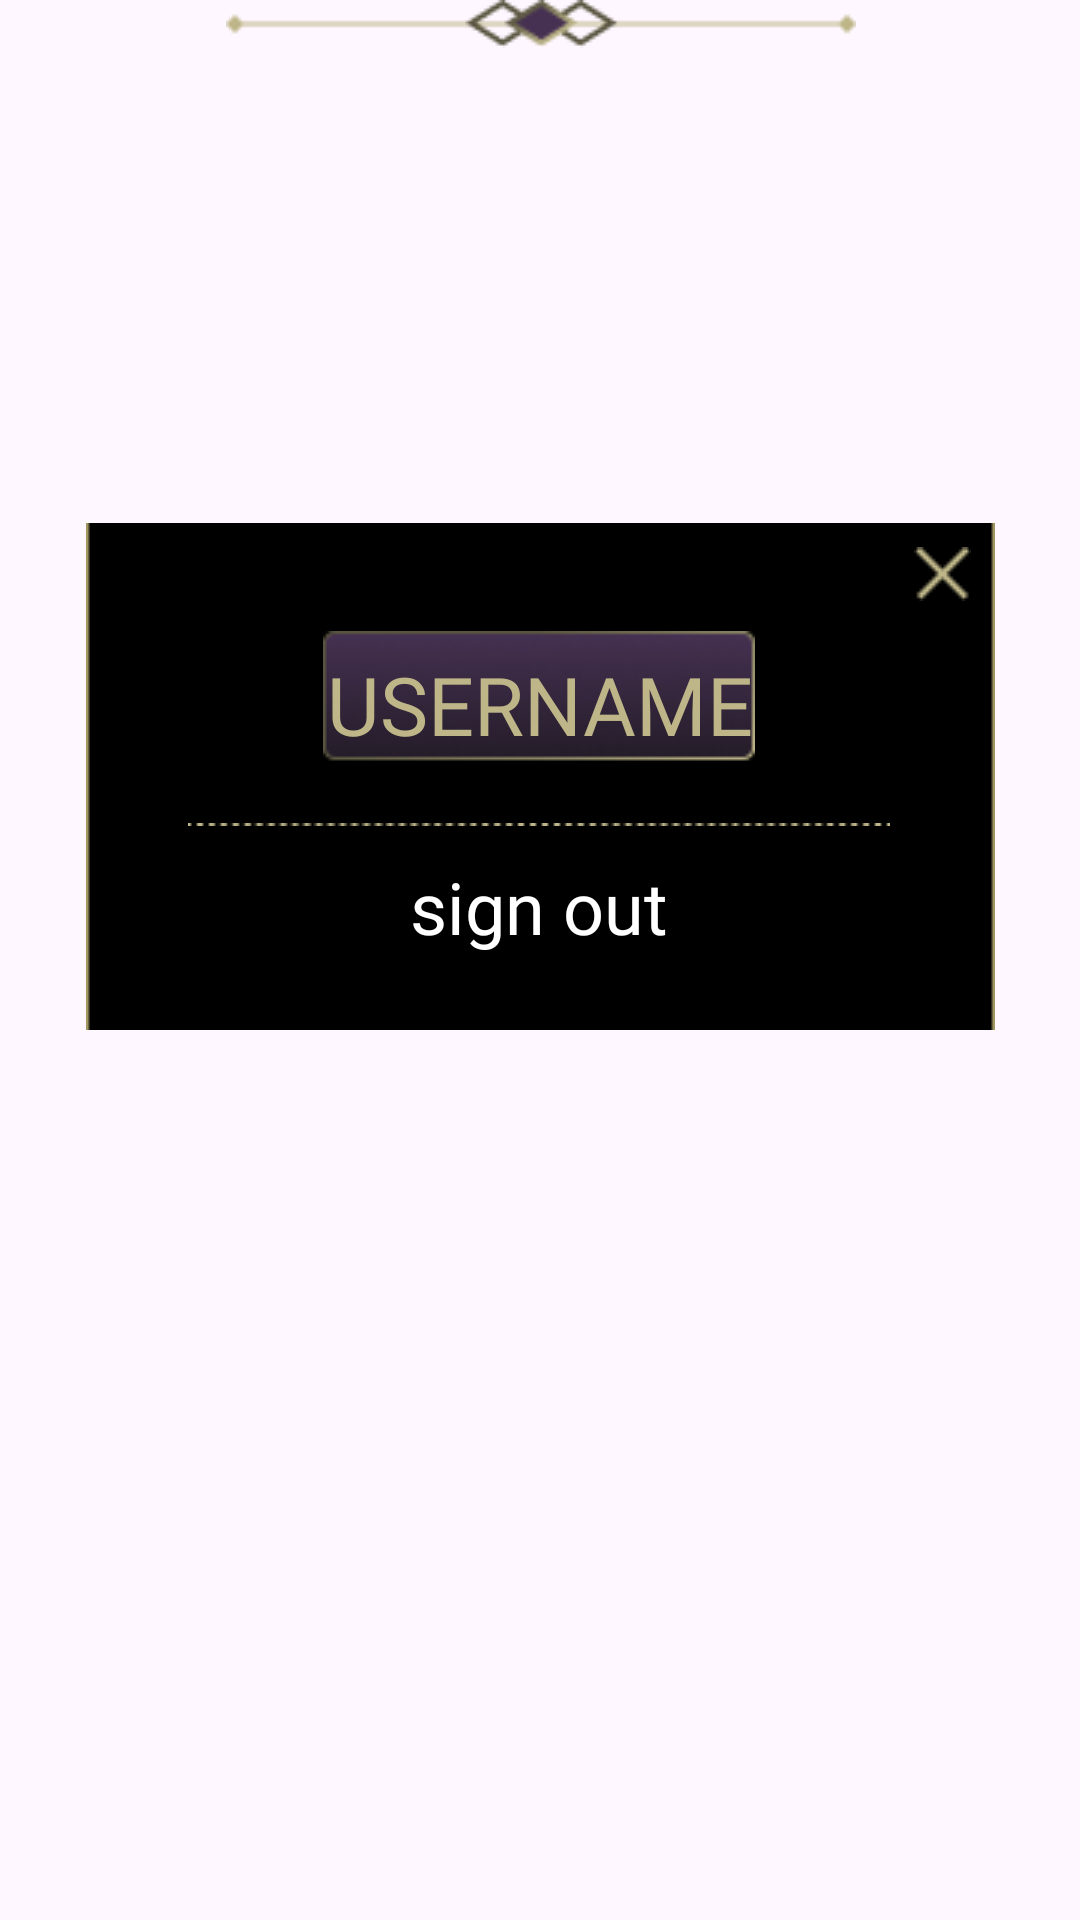

Where to tap for icons on this 1080*1920 app screen, as (x=x, y=y):
account dialog fragment exit: (x=942, y=574)
